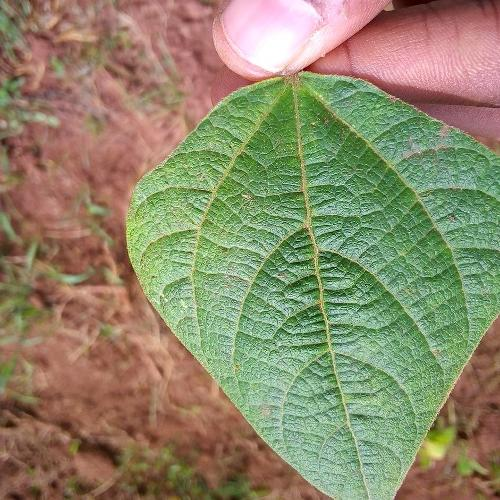mozaik: (244, 111, 426, 418)
